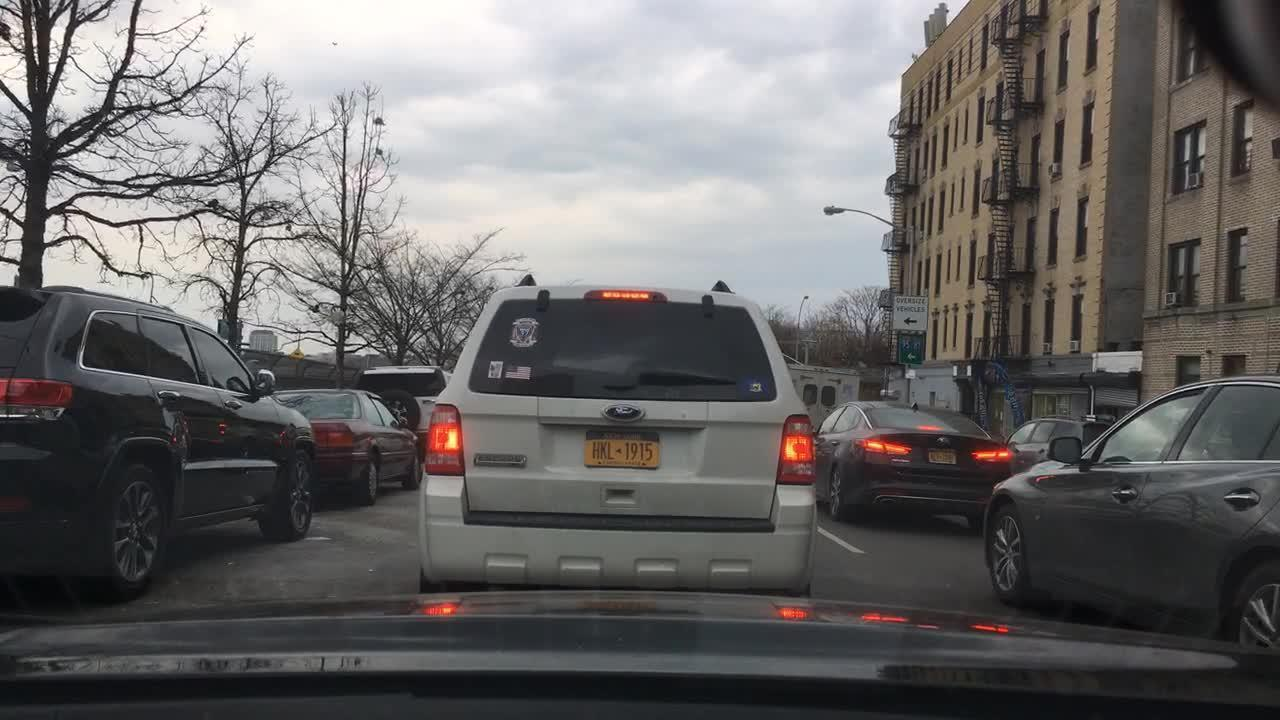ford: (599, 402, 648, 423)
